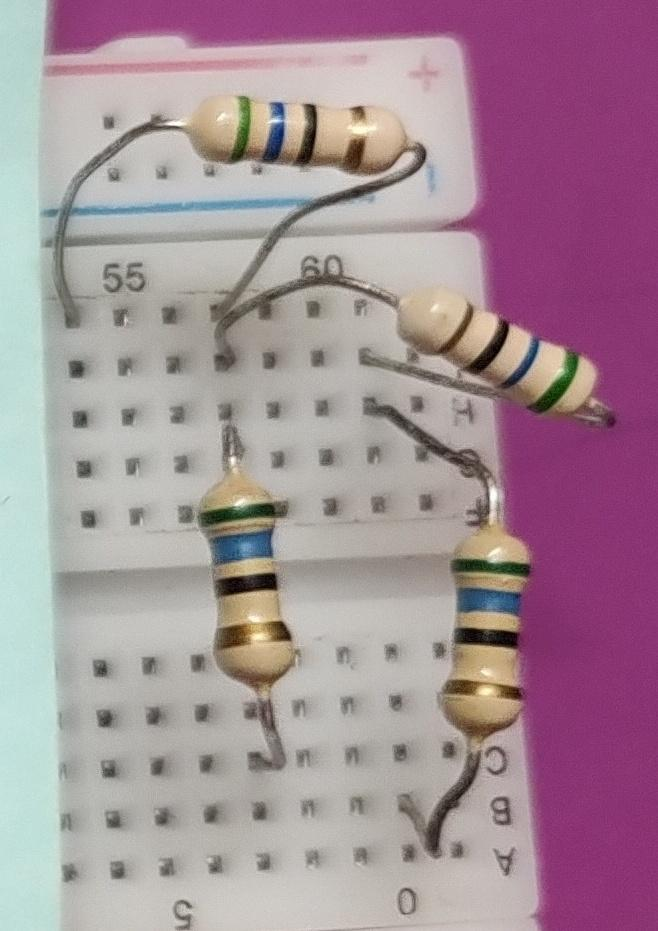resistor: (385, 271, 608, 436), (171, 459, 316, 712), (173, 75, 417, 213), (439, 509, 542, 753)
